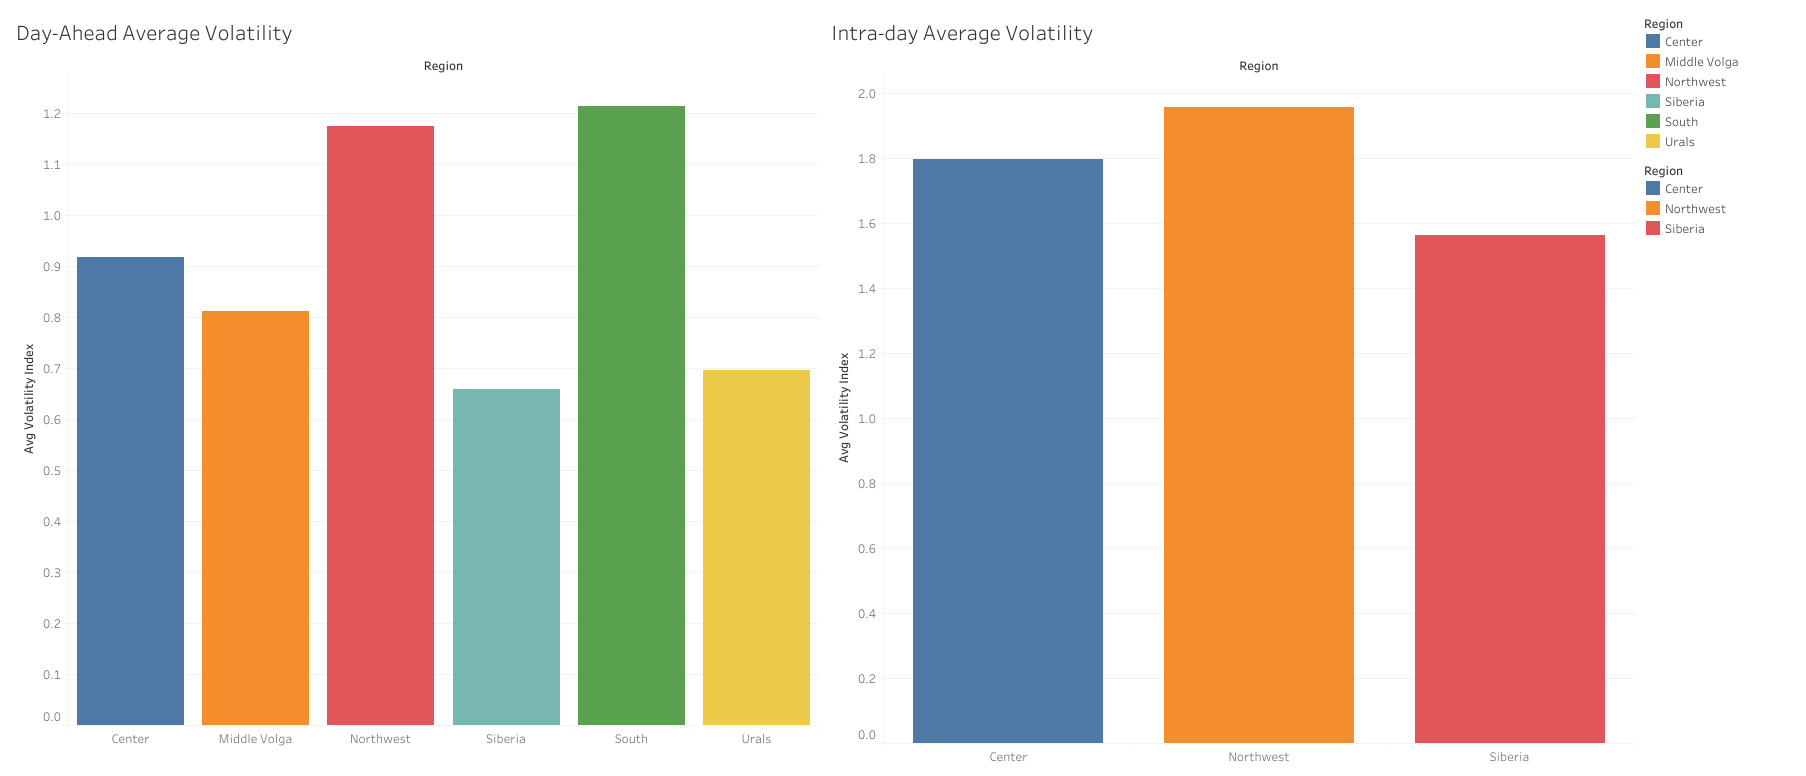

This screenshot's page, from the dashboard's own definition file:
{"tool":"tableau","page":{"name":"Dashboard 1","canvas":[1000,1000],"units":"permille","ordinal":0},"visuals":[{"type":"worksheet","title":"Sheet 1","mark":"Automatic","rows":["volatility_index"],"cols":["month"],"box":[4.1,6.8,909.3,493.2]},{"type":"legend","title":"Sheet 1","param":"[federated.1ofyf1b0hrd7kf1b59lzm074dguj].[none:region:nk]","box":[913.4,6.8,82.5,157.3]},{"type":"legend","title":"Sheet 2","param":"[federated.121jmtw1icwjbt1cwyzr80yp3v4g].[none:region:nk]","box":[913.4,164.1,82.5,93.2]},{"type":"worksheet","title":"Sheet 2","mark":"Automatic","rows":["volatility_index"],"cols":["month"],"box":[4.1,500,909.3,493.2]}]}

Visuals, with their boxes on the dashboard's canvas, which has no fixed pixel size, in thousandths of its width and height (x1, y1, x2, y2). These are canvas units, not pixel positions in the 1806x776 screenshot, which may show the page scaled, cropped or inside an application window:
"Sheet 1" worksheet: <region>4, 7, 913, 500</region>
"Sheet 1" legend: <region>913, 7, 996, 164</region>
"Sheet 2" legend: <region>913, 164, 996, 257</region>
"Sheet 2" worksheet: <region>4, 500, 913, 993</region>
